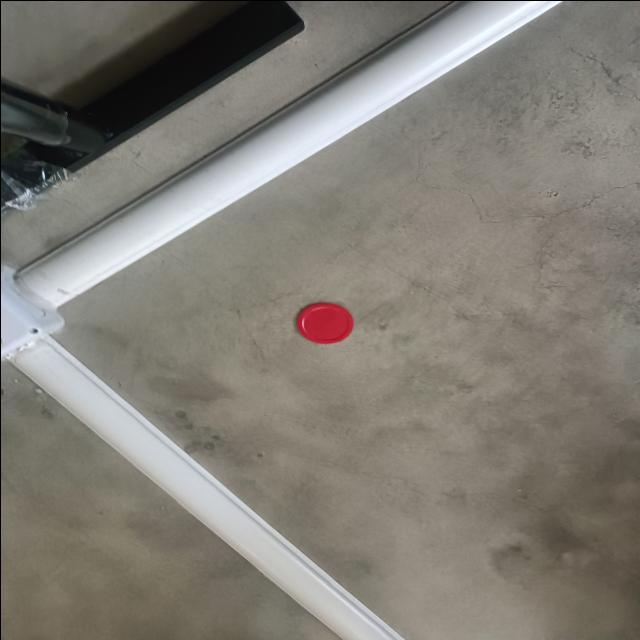chip: (294, 301, 355, 345)
